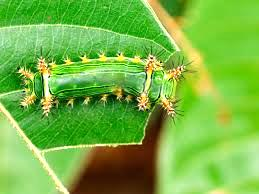Caterpillar: (14, 51, 196, 123)
